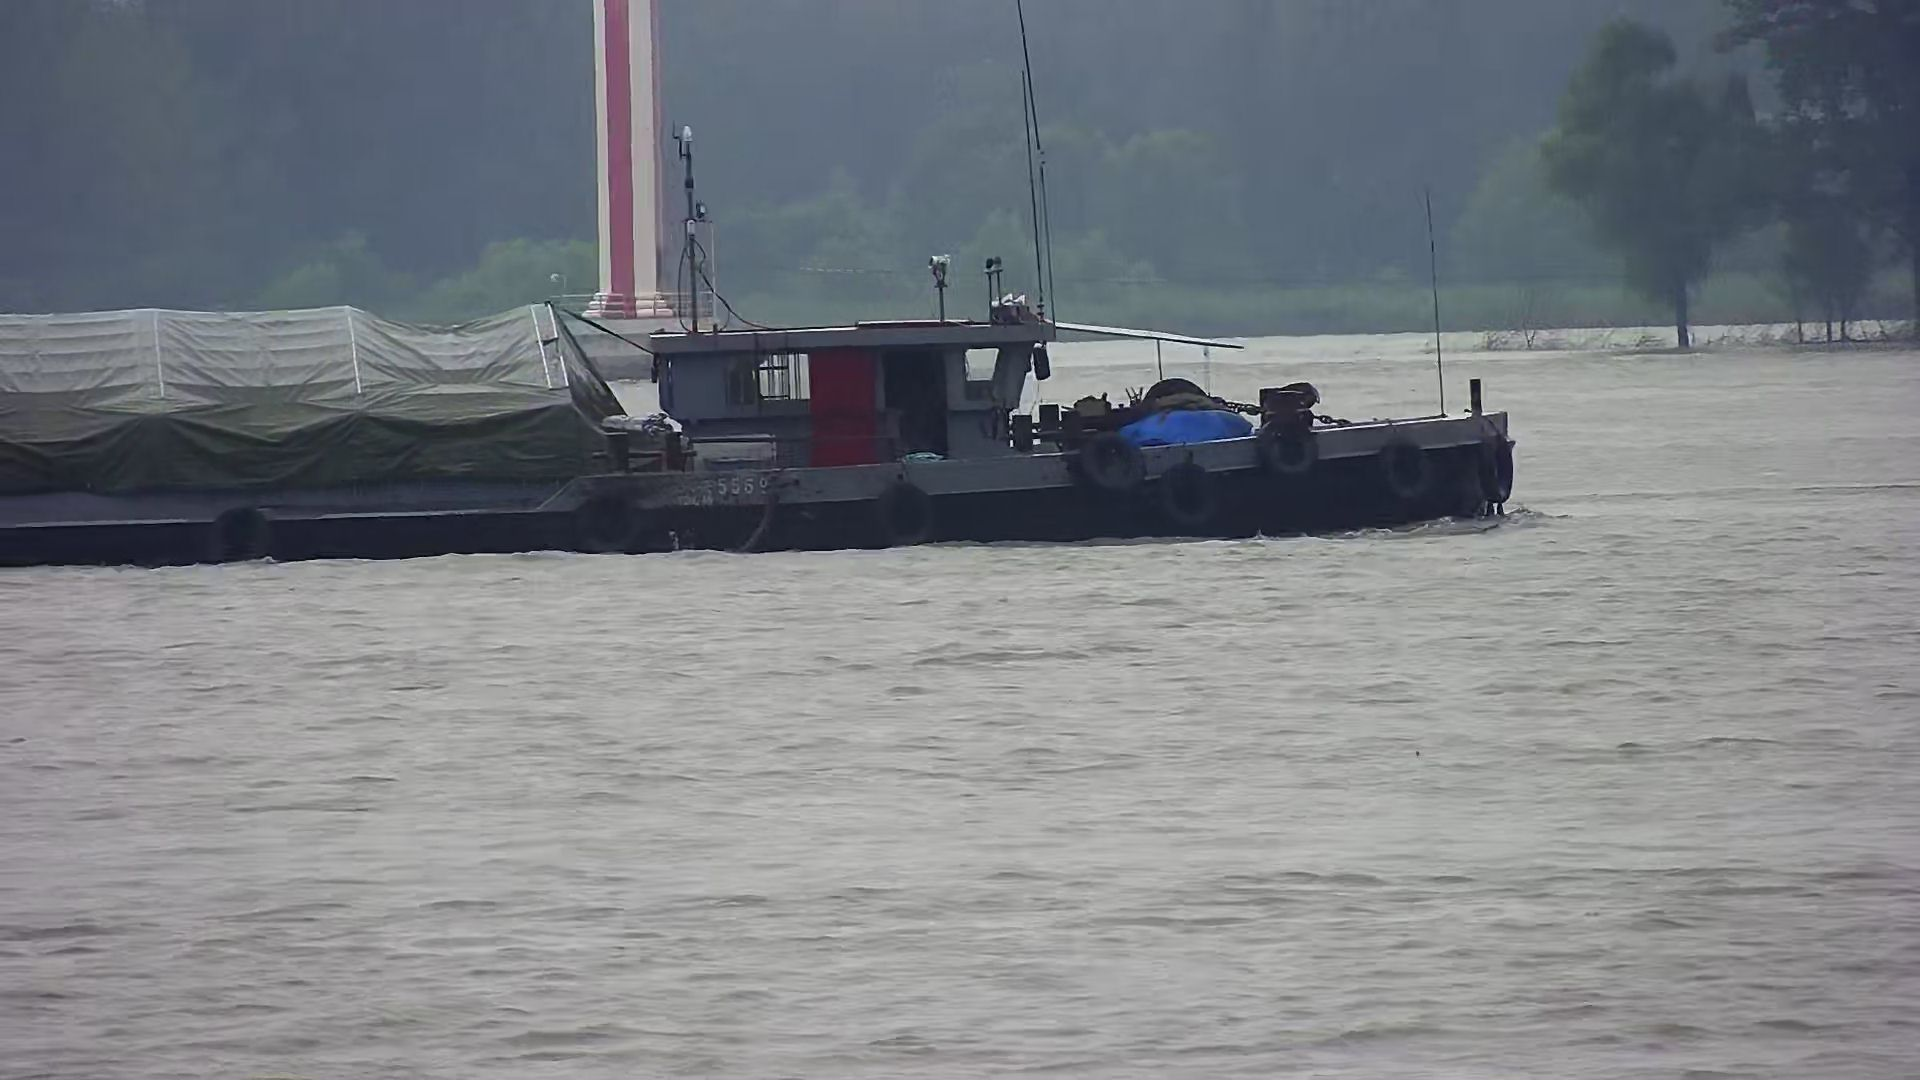platform: (546, 3, 717, 381)
ship: (1, 236, 1506, 567)
tree: (1539, 24, 1764, 352), (1746, 1, 1920, 344)
